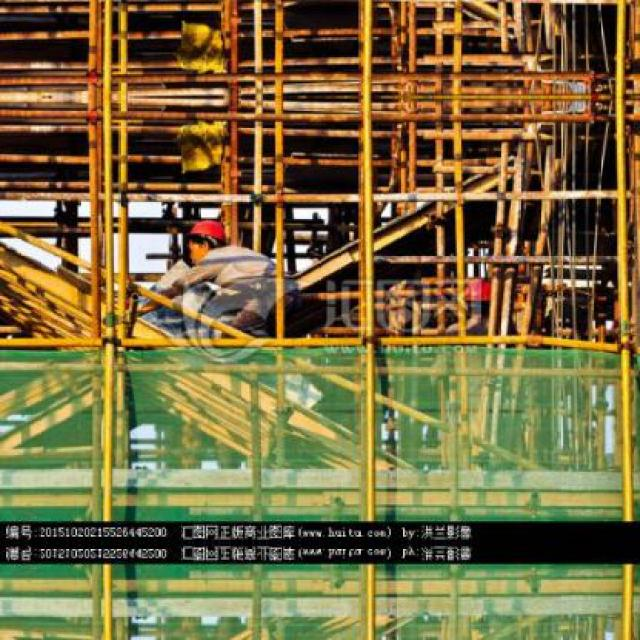helmet: (178, 214, 231, 259)
